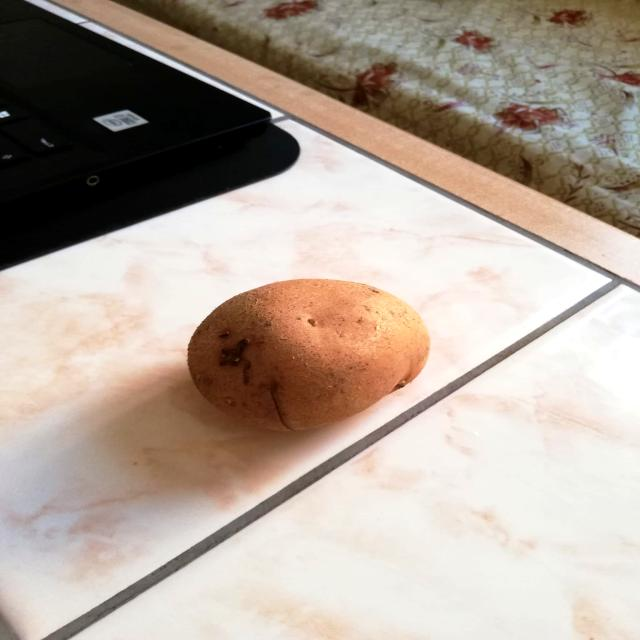potato: (179, 269, 438, 435)
